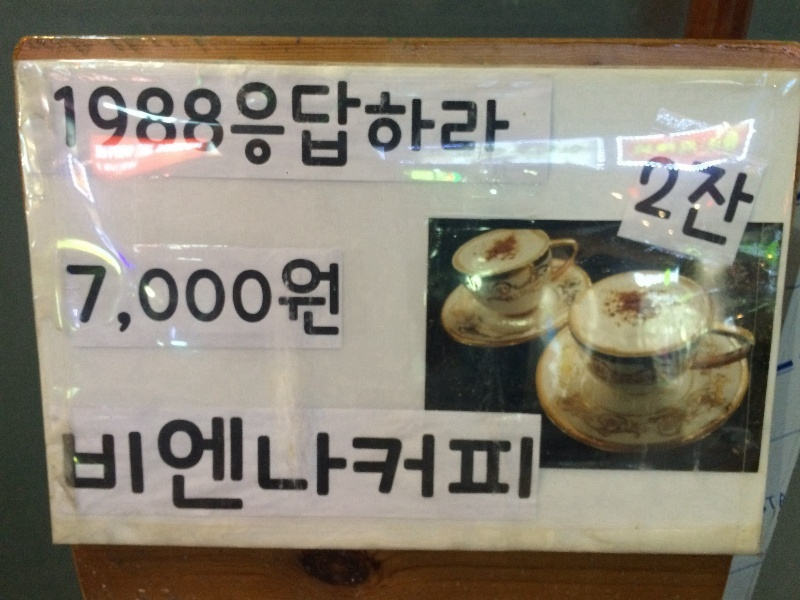text: (65, 410, 80, 520), (81, 410, 96, 520), (97, 410, 112, 520), (113, 410, 128, 520), (129, 410, 144, 520), (145, 410, 160, 520), (161, 410, 176, 520), (177, 410, 192, 520), (193, 410, 208, 520), (209, 410, 224, 520), (225, 410, 240, 520), (241, 410, 256, 520), (257, 410, 272, 520), (273, 410, 288, 520), (289, 410, 304, 520), (305, 410, 320, 520), (321, 410, 336, 520), (337, 410, 352, 520), (353, 410, 368, 520), (369, 410, 384, 520), (385, 410, 400, 520), (401, 410, 416, 520), (417, 410, 432, 520), (433, 410, 448, 520), (449, 410, 464, 520), (465, 410, 480, 520), (481, 410, 496, 520), (497, 410, 512, 520), (513, 410, 528, 520), (657, 147, 672, 255), (673, 147, 688, 255), (689, 147, 704, 255), (705, 147, 720, 255), (721, 147, 736, 255), (737, 147, 752, 255), (497, 75, 513, 174), (225, 75, 240, 174), (241, 75, 256, 174), (257, 75, 272, 174), (273, 75, 288, 174), (289, 75, 304, 174), (305, 75, 320, 174), (321, 75, 336, 174), (337, 75, 352, 174), (353, 75, 368, 174), (369, 75, 384, 174), (385, 75, 400, 174), (401, 75, 416, 174), (417, 75, 432, 174), (433, 75, 448, 174), (449, 75, 464, 174), (465, 75, 480, 174), (481, 75, 496, 174), (65, 250, 80, 341), (81, 250, 96, 341), (97, 250, 112, 341), (113, 250, 128, 341), (129, 250, 144, 341), (145, 250, 160, 341), (161, 250, 176, 341), (177, 250, 192, 341), (193, 250, 208, 341), (209, 250, 224, 341), (225, 250, 240, 341), (241, 250, 256, 341), (257, 250, 272, 341), (273, 250, 288, 341), (289, 250, 304, 341), (305, 250, 320, 341), (321, 250, 336, 341), (209, 81, 225, 156), (49, 81, 64, 156), (65, 81, 80, 156), (81, 81, 96, 156), (97, 81, 112, 156), (113, 81, 128, 156), (129, 81, 144, 156), (145, 81, 160, 156), (161, 81, 176, 156), (177, 81, 192, 156), (193, 81, 208, 156), (55, 410, 64, 520), (529, 410, 538, 520), (647, 147, 656, 255), (753, 147, 761, 255), (337, 250, 342, 341), (641, 128, 656, 157), (657, 128, 672, 157), (673, 128, 688, 157), (689, 128, 704, 157), (705, 128, 720, 157), (721, 128, 736, 157), (769, 491, 784, 514), (465, 274, 480, 293), (417, 167, 432, 182), (433, 167, 448, 182), (449, 167, 463, 182), (403, 167, 416, 182), (634, 128, 640, 157), (737, 128, 742, 157), (63, 250, 64, 341), (481, 274, 484, 293), (766, 491, 768, 514), (785, 491, 787, 514), (463, 274, 464, 293)
